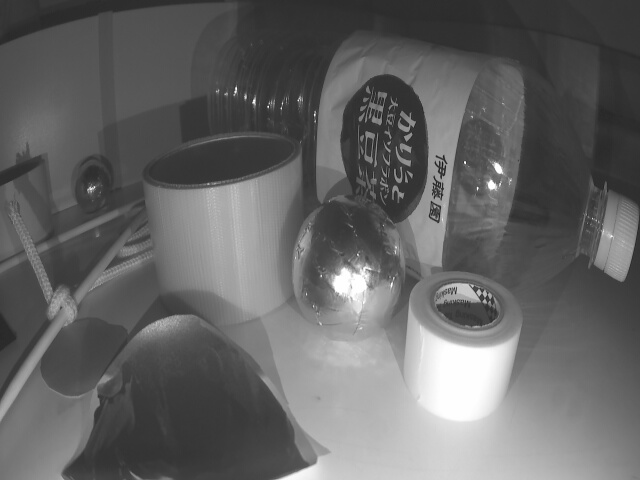Live: (290, 196, 409, 341), (73, 161, 113, 212)
